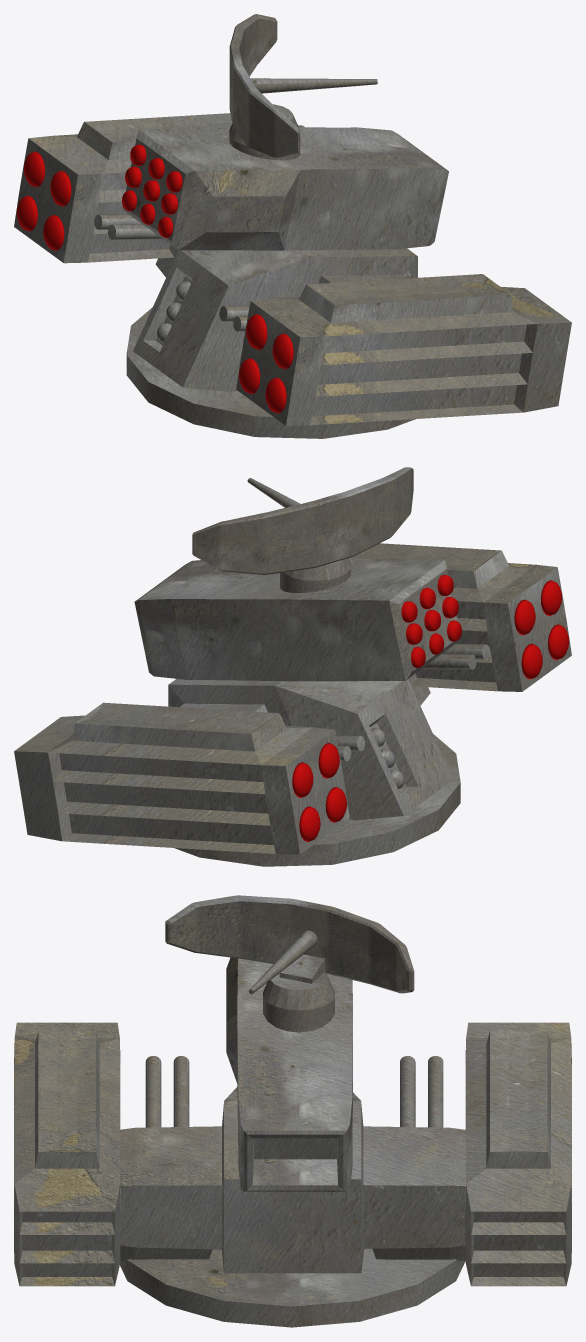
The model's file is Tower_Rocket.FBX.
3 renders of one model, top to bottom at view 1: azimuth 30°, elevation 25°; view 2: azimuth 150°, elevation 25°; view 3: azimuth 270°, elevation 25°, orthographic.
Visible parts, largest first — view 1: Tower_Rocket, Radar; view 2: Tower_Rocket, Radar; view 3: Tower_Rocket, Radar.
Part boxes in pixels (left/top/right/bottom): Tower_Rocket: left=14, top=113, right=571, bottom=438; Radar: left=229, top=14, right=377, bottom=160; Tower_Rocket: left=14, top=543, right=571, bottom=866; Radar: left=192, top=467, right=413, bottom=592; Tower_Rocket: left=14, top=957, right=571, bottom=1327; Radar: left=165, top=895, right=414, bottom=1032.
Size of the model in its own units: 106 by 164 by 104.
2 materials, 1 textured.
